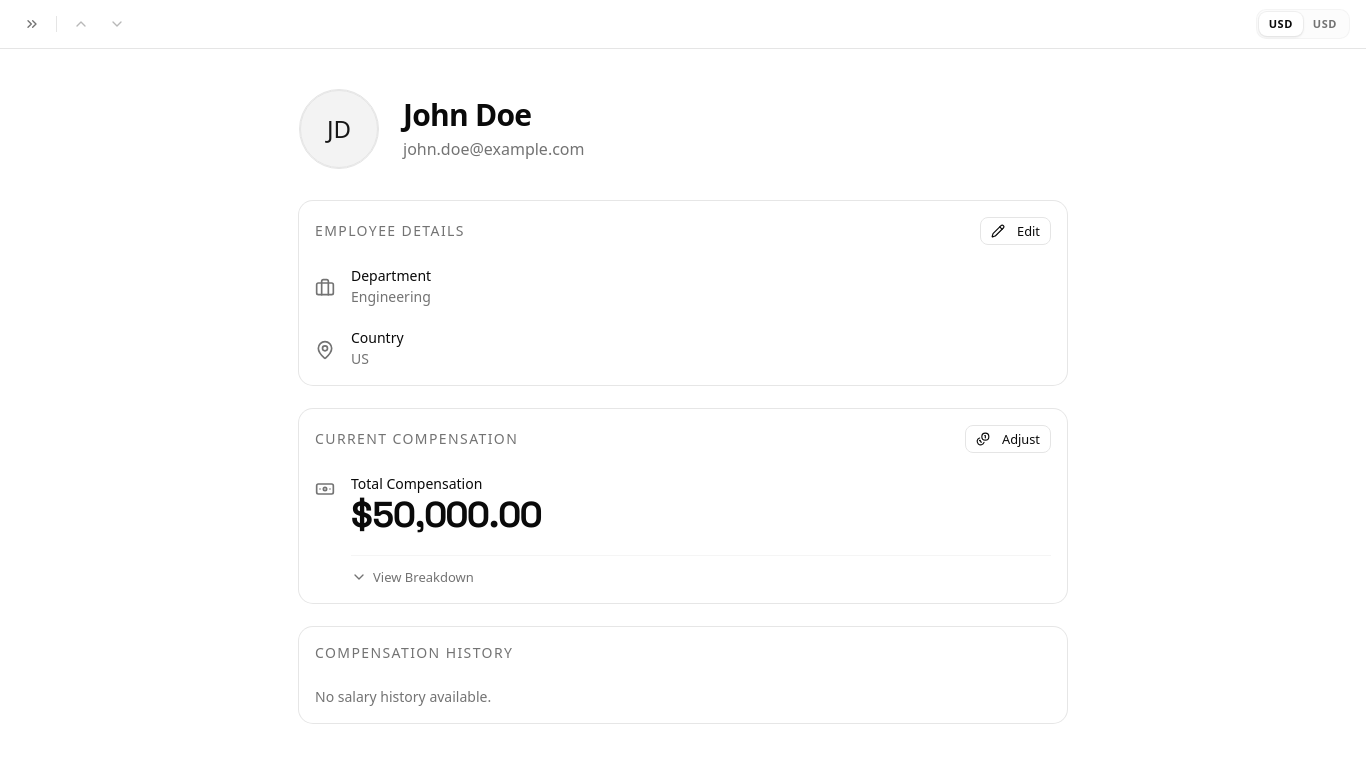
it: EmployeeProfilePane › safely omits optional components if they are null or 0
What coordinates should you click on to do the following:
click the button "View Breakdown"
I would click on:
 (412, 577)
Its box is 351,568 -> 474,587.
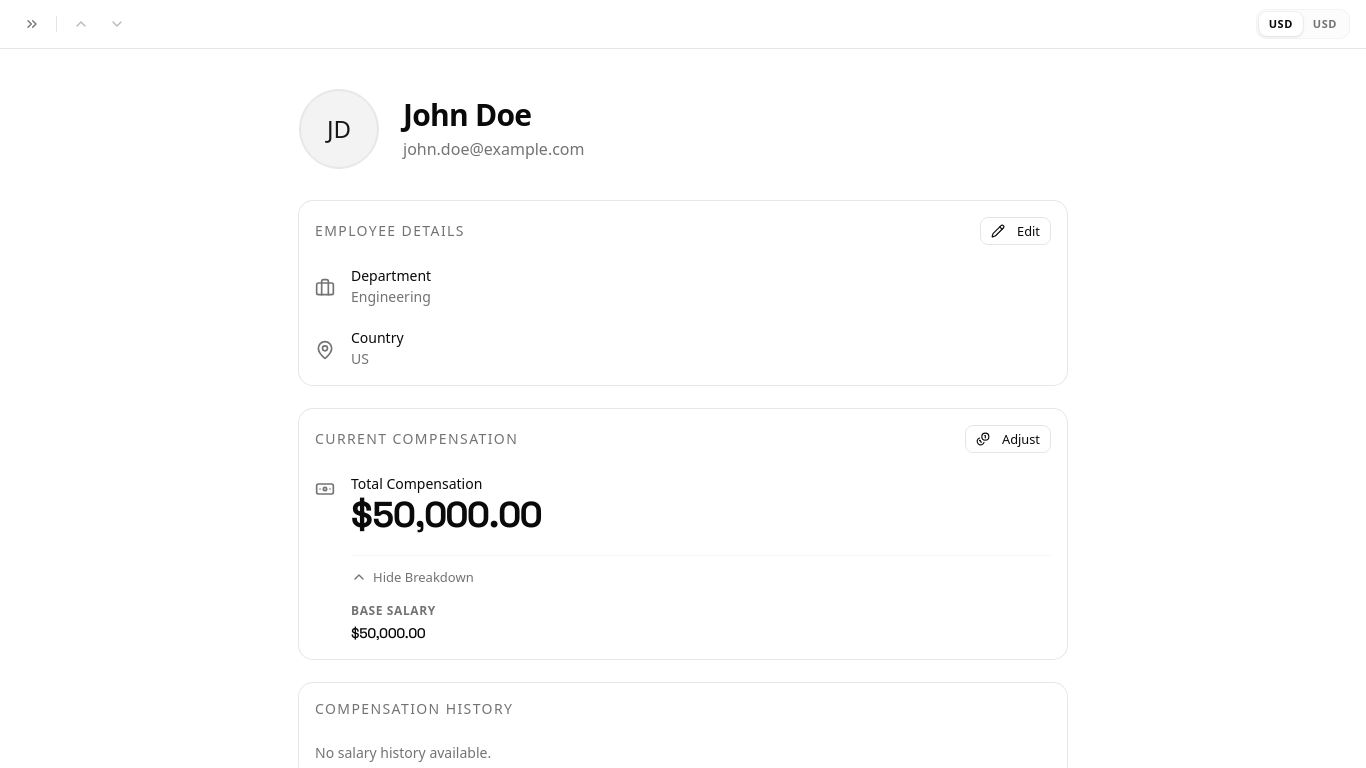
Expected: the 1st text "$50,000.00" is shown, 351,495 -> 541,535
Expected: the text "Base Salary" is shown, 351,602 -> 436,619
